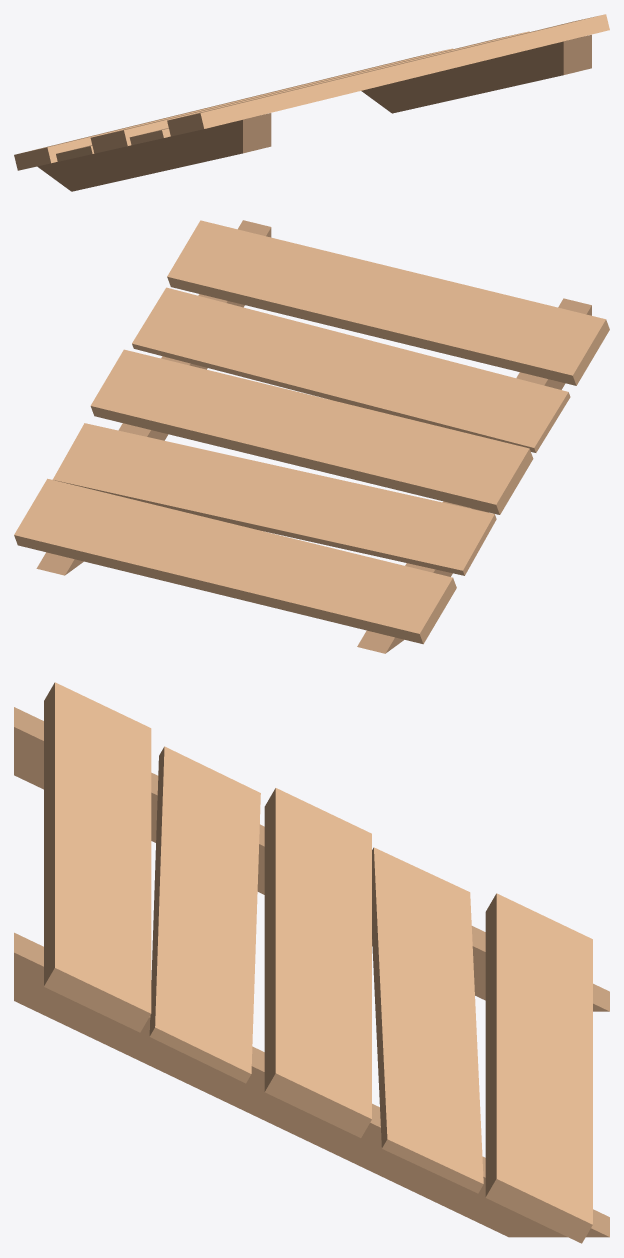
The model's file is bridgeRamp.glb.
3 views of the same model, one above another, from view 1: azimuth 30°, elevation 25°; view 2: azimuth 150°, elevation 25°; view 3: azimuth 270°, elevation 25° (orthographic). The views are drawn at different scales.
Visible parts, largest first — view 1: bridgeRamp(Clone); view 2: bridgeRamp(Clone); view 3: bridgeRamp(Clone).
Boxes of the visible parts, x1,y1,x2,y2 form: bridgeRamp(Clone): (14,14,609,191); bridgeRamp(Clone): (14,220,609,653); bridgeRamp(Clone): (14,682,609,1243).
Size of the model in its own units: 1 by 0.4726 by 0.882.
